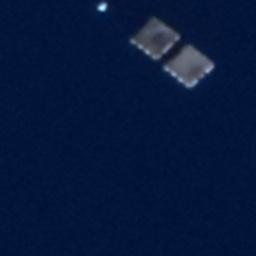square_cover: (157, 40, 220, 93), (124, 13, 188, 65)
